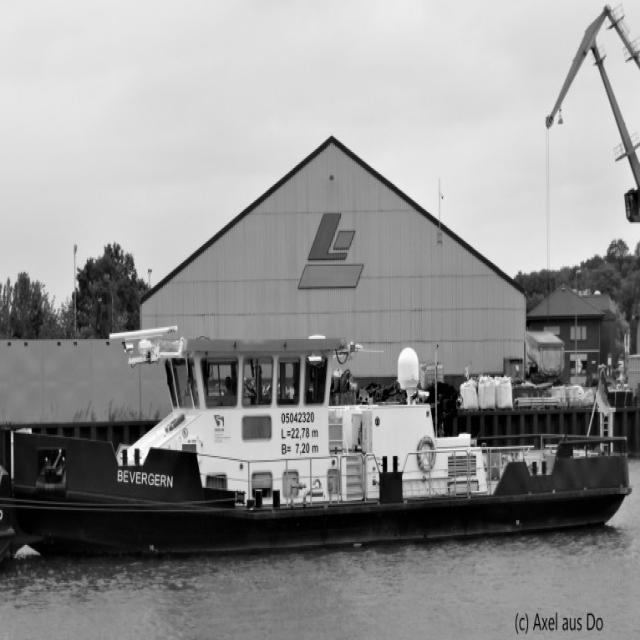tugboat: (4, 310, 639, 567)
